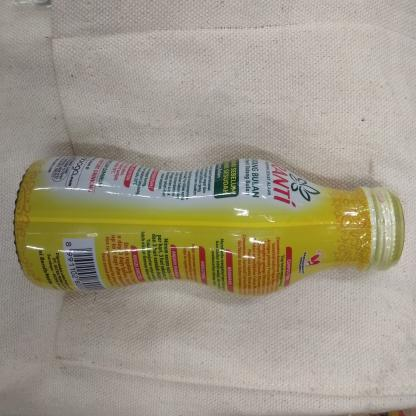glass: (11, 142, 406, 306)
